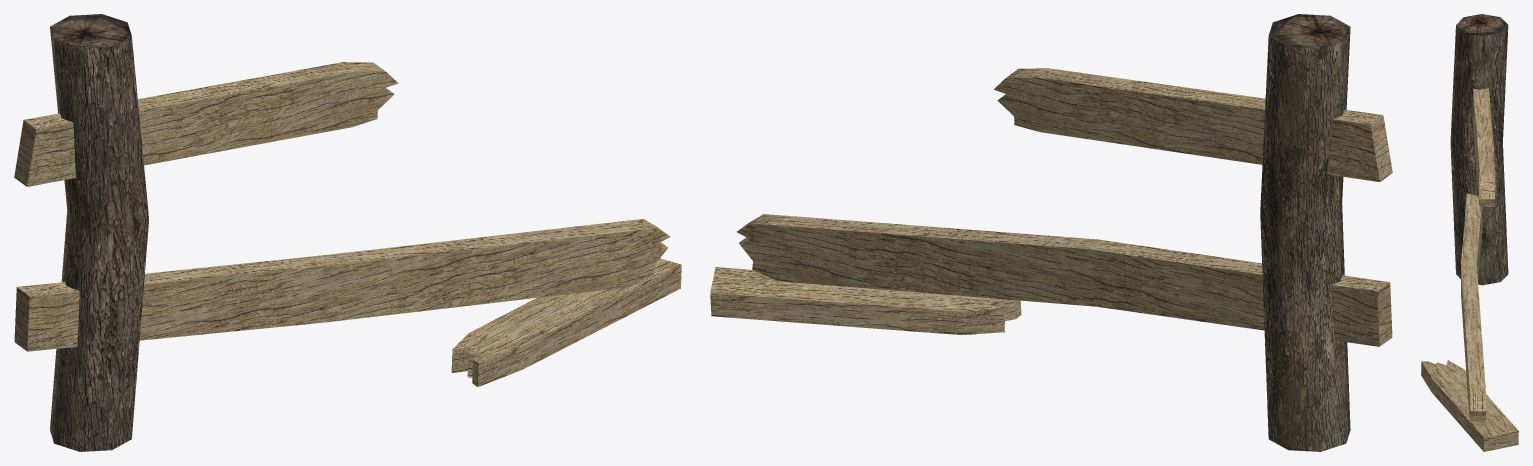
The model's file is woodenFence11.FBX.
3 renders of one model, left to right at view 1: azimuth 30°, elevation 25°; view 2: azimuth 150°, elevation 25°; view 3: azimuth 270°, elevation 25°, orthographic. The views are drawn at different scales.
Parts seen in each view (by area): view 1: wooden_fence_small_broken_1poleL; view 2: wooden_fence_small_broken_1poleL; view 3: wooden_fence_small_broken_1poleL.
Boxes of the visible parts, x1=… form: wooden_fence_small_broken_1poleL: x1=14, y1=14, x2=681, y2=451; wooden_fence_small_broken_1poleL: x1=710, y1=14, x2=1392, y2=451; wooden_fence_small_broken_1poleL: x1=1421, y1=14, x2=1518, y2=451.
Size of the model in its own units: 259 by 150 by 53.35.
